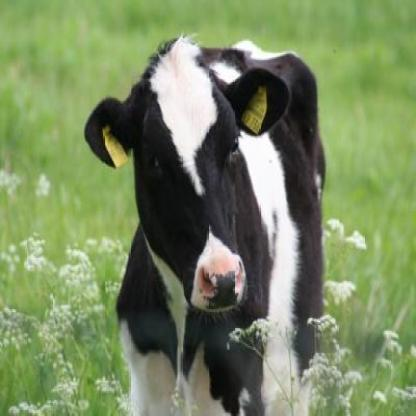lower: (216, 307, 235, 312)
mouth: (192, 258, 247, 316)
upper: (217, 280, 230, 294)
